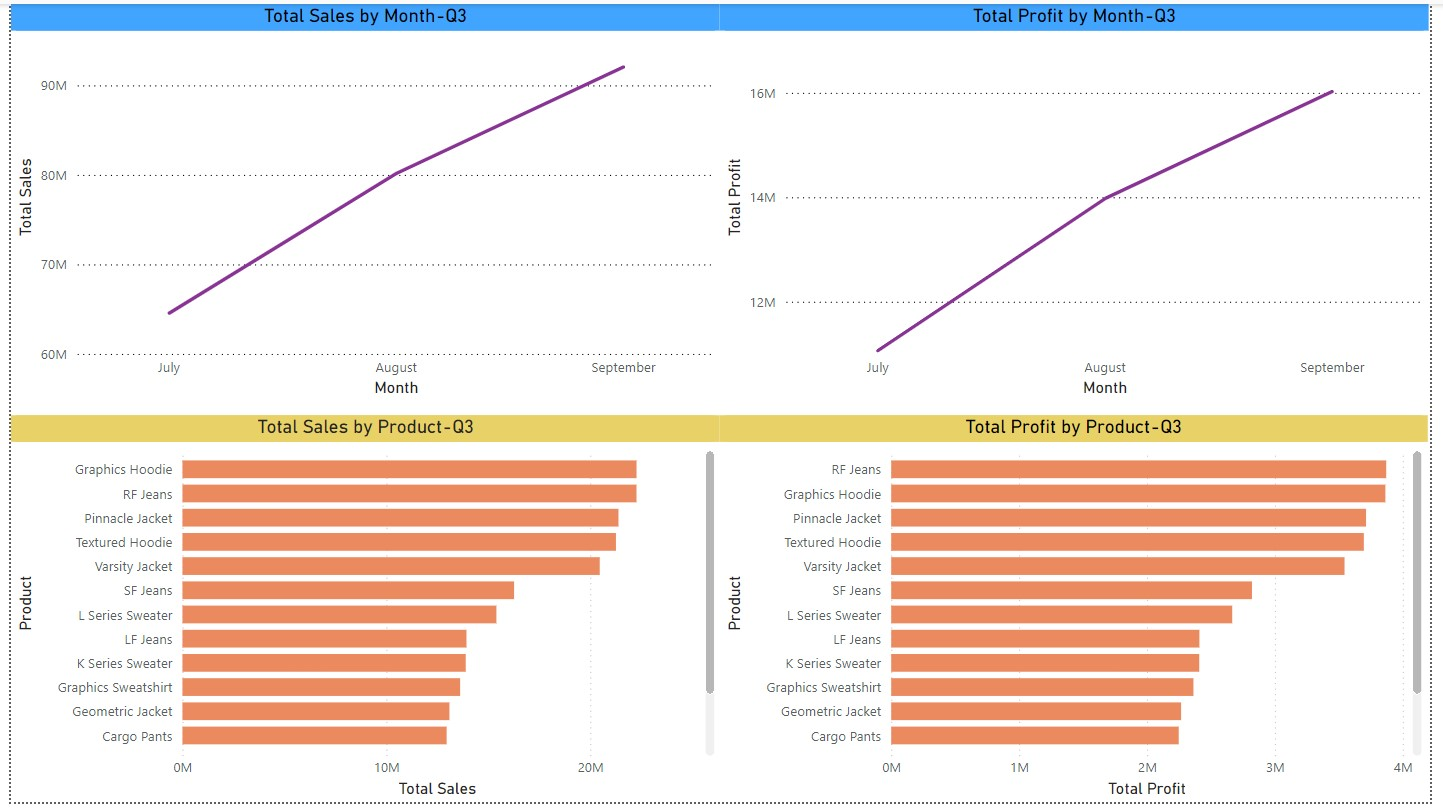

What the dashboard file says about the page in this screenshot:
{"tool":"powerbi","page":{"name":"Page 1","canvas":[1280,720],"ordinal":0},"visuals":[{"type":"lineChart","title":"Total Sales by Month-Q3","fields":{"Y":["Sum(cleaned_sales_data.Total Sales)"],"Category":["cleaned_sales_data.Month"]},"box":[0,0,639.5,359.5],"z":0},{"type":"lineChart","title":"Total Profit by Month-Q3","fields":{"Y":["Sum(cleaned_sales_data.Total Profit)"],"Category":["cleaned_sales_data.Month"]},"box":[639.5,0,639.5,359.5],"z":1000},{"type":"clusteredBarChart","title":"Total Sales by Product-Q3","fields":{"Y":["Sum(cleaned_sales_data.Total Sales)"],"Category":["cleaned_sales_data.     Product"]},"box":[0,370.5,639.5,349.9],"z":2000},{"type":"clusteredBarChart","title":"Total Profit by Product-Q3","fields":{"Y":["Sum(cleaned_sales_data.Total Profit)"],"Category":["cleaned_sales_data.     Product"]},"box":[639.5,370.5,638.1,349.9],"z":3000}]}

Visuals, with their boxes in screenshot pixels (x1, y1, x2, y2), scaled from the page's 1280x720 canvas onto the 1443x809 screenshot:
"Total Sales by Month-Q3" lineChart: [0,0,721,404]
"Total Profit by Month-Q3" lineChart: [721,0,1442,404]
"Total Sales by Product-Q3" clusteredBarChart: [0,416,721,808]
"Total Profit by Product-Q3" clusteredBarChart: [721,416,1440,808]
